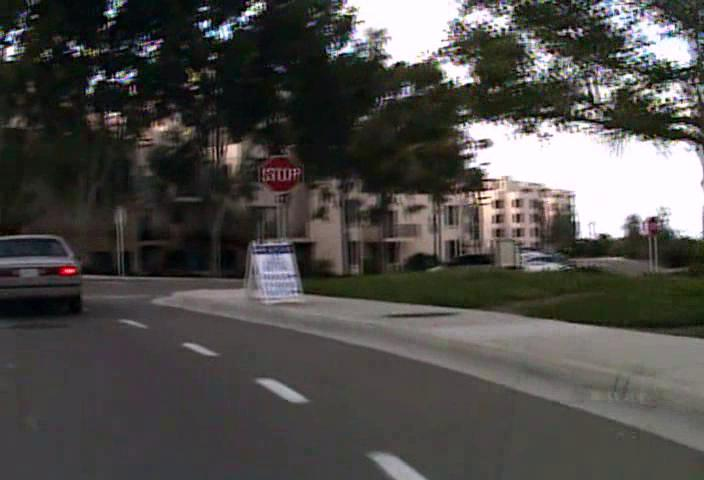stop: (259, 154, 302, 194)
